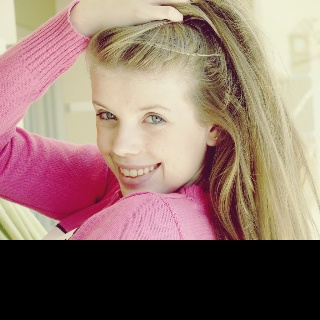without_mask: (90, 68, 207, 197)
